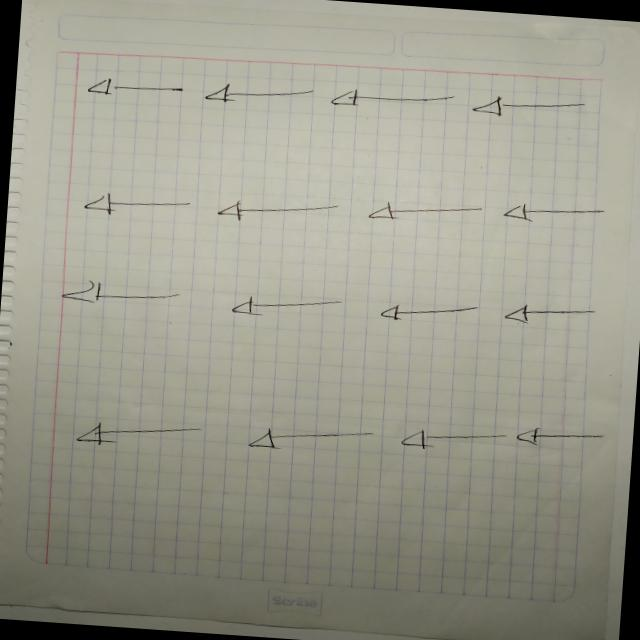arrow_line_left: (50, 272, 196, 317), (66, 416, 218, 458), (216, 286, 358, 328), (240, 420, 382, 462), (324, 84, 465, 124), (210, 190, 346, 230), (70, 68, 196, 110), (201, 79, 324, 119), (468, 92, 594, 131), (358, 196, 493, 230), (372, 294, 489, 332), (395, 423, 512, 461), (496, 296, 610, 334), (75, 187, 201, 221), (496, 200, 616, 230), (512, 424, 614, 456)
